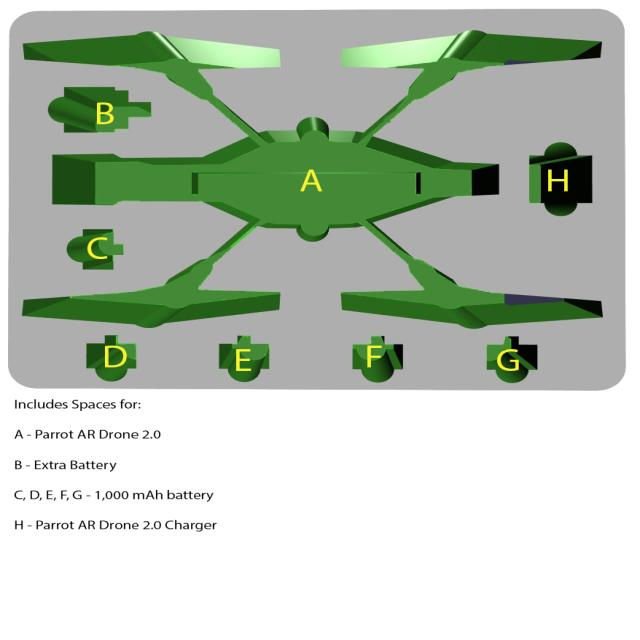drone: (11, 25, 630, 338)
